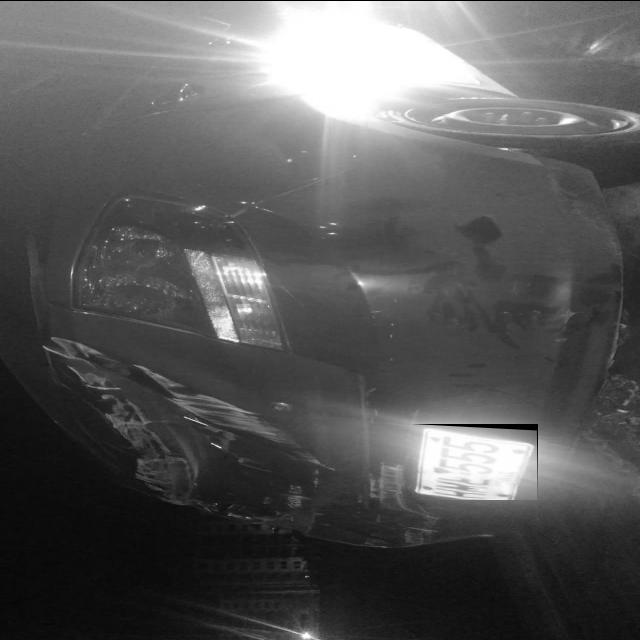plate: (412, 423, 537, 499)
